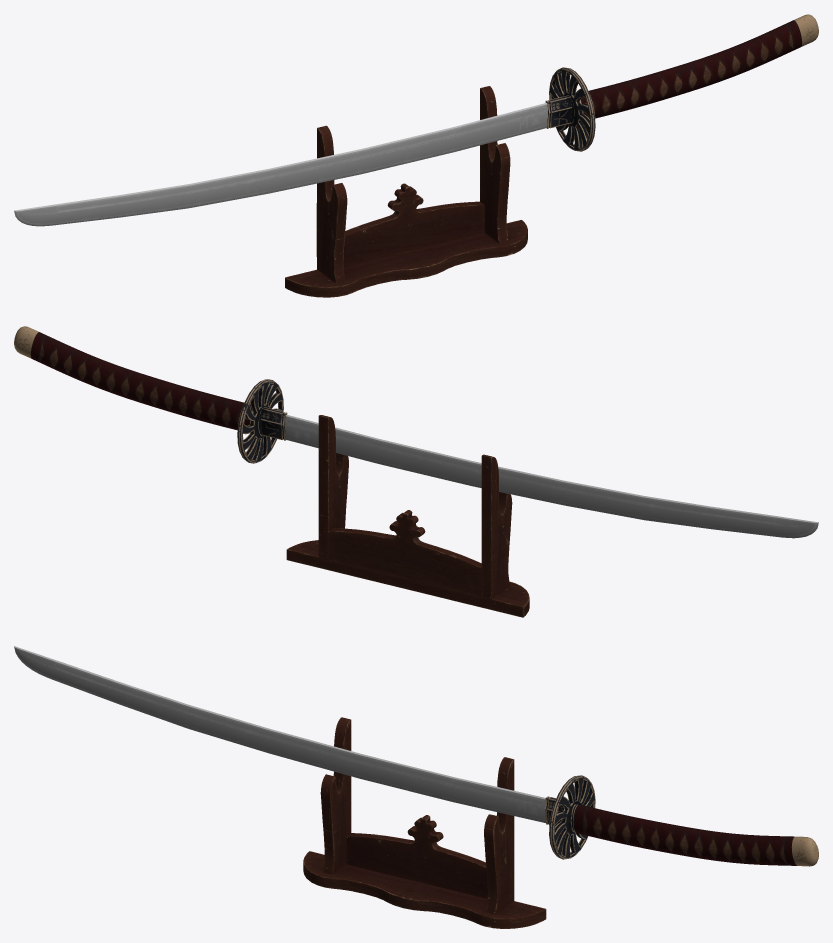
Rendered from otaku-display-full.glb.
3 views of the same model, one above another, from view 1: azimuth 30°, elevation 25°; view 2: azimuth 150°, elevation 25°; view 3: azimuth 330°, elevation 25° (orthographic).
Visible parts, largest first — view 1: antique_katana_01, katana_stand_01; view 2: antique_katana_01, katana_stand_01; view 3: antique_katana_01, katana_stand_01.
Boxes of the visible parts, x1,y1,x2,y2 form: antique_katana_01: [14, 14, 818, 226]; katana_stand_01: [285, 86, 527, 297]; antique_katana_01: [14, 326, 818, 538]; katana_stand_01: [286, 415, 529, 617]; antique_katana_01: [14, 646, 818, 866]; katana_stand_01: [303, 717, 546, 928].
Size of the model in its own units: 1 by 0.1905 by 0.0934.
Materials: 2 (2 with a texture image).
